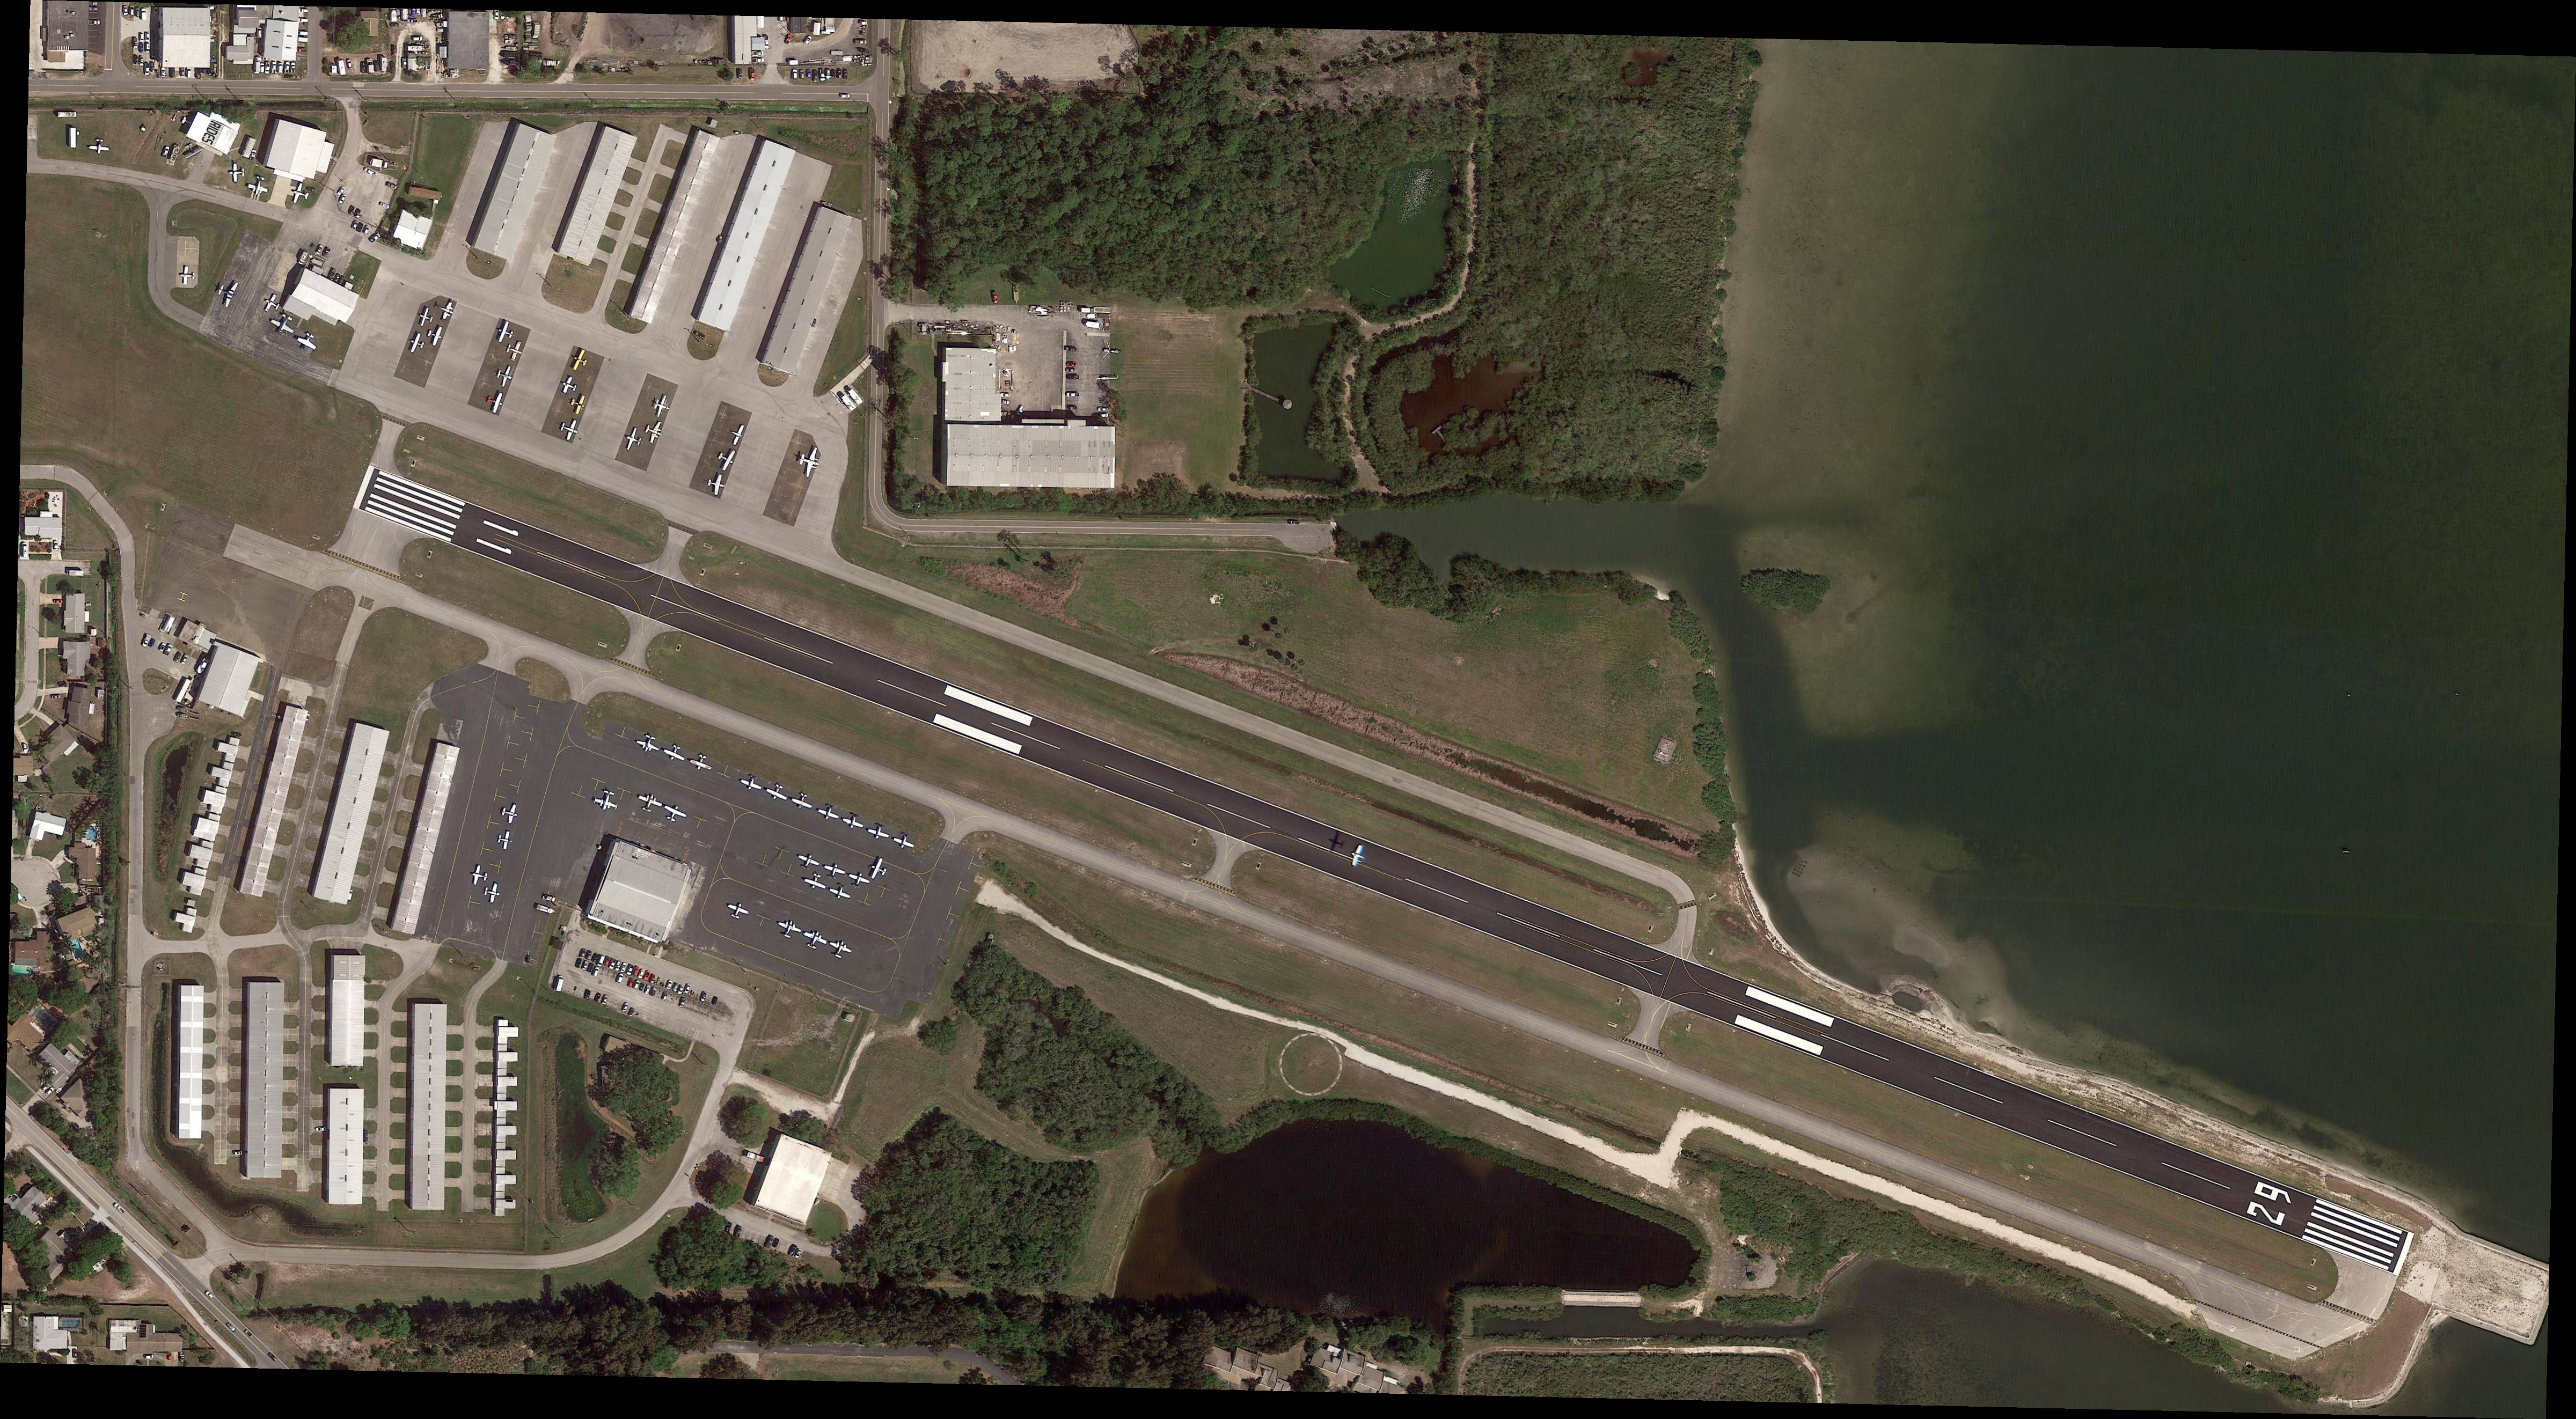large vehicle: (140, 633, 154, 648), (554, 975, 564, 993), (537, 903, 554, 914), (19, 542, 28, 559)
plane: (211, 276, 243, 309), (267, 309, 301, 339), (797, 444, 823, 479), (799, 926, 830, 954), (640, 416, 666, 446), (774, 916, 804, 942), (592, 788, 622, 814), (634, 790, 664, 816), (481, 388, 507, 416), (713, 446, 739, 474), (661, 800, 689, 827), (634, 732, 664, 757), (295, 329, 322, 355), (724, 898, 751, 923), (827, 937, 855, 961), (650, 391, 673, 421), (828, 879, 855, 903), (557, 416, 580, 444), (689, 751, 717, 774), (495, 318, 517, 346), (793, 851, 821, 874), (624, 425, 645, 454), (570, 348, 592, 374), (503, 337, 526, 363), (290, 182, 313, 208), (765, 781, 792, 804), (802, 870, 828, 893), (867, 856, 890, 883), (495, 362, 516, 390), (248, 173, 271, 197), (792, 790, 816, 813), (1347, 844, 1370, 869), (479, 881, 502, 905), (739, 772, 765, 793), (568, 391, 589, 418), (725, 421, 746, 447), (662, 743, 689, 764), (816, 802, 842, 823), (841, 811, 867, 832), (867, 821, 893, 842), (848, 869, 870, 891), (706, 472, 727, 496), (407, 332, 428, 356), (180, 140, 204, 161), (425, 323, 446, 348), (262, 292, 283, 316), (435, 299, 456, 323), (500, 800, 521, 825), (821, 862, 848, 881), (559, 374, 580, 397), (416, 306, 437, 329), (893, 832, 916, 853), (470, 863, 489, 888), (495, 828, 514, 851), (87, 138, 112, 156), (229, 163, 246, 183), (180, 266, 196, 285)
small vehicle: (163, 643, 175, 657), (173, 650, 184, 664), (180, 652, 189, 666), (157, 643, 168, 654), (147, 638, 156, 648), (52, 540, 59, 552), (122, 5, 128, 16), (52, 599, 63, 605)
swimming pool: (68, 938, 86, 959), (10, 965, 33, 977), (86, 827, 98, 841), (61, 1319, 80, 1328)
